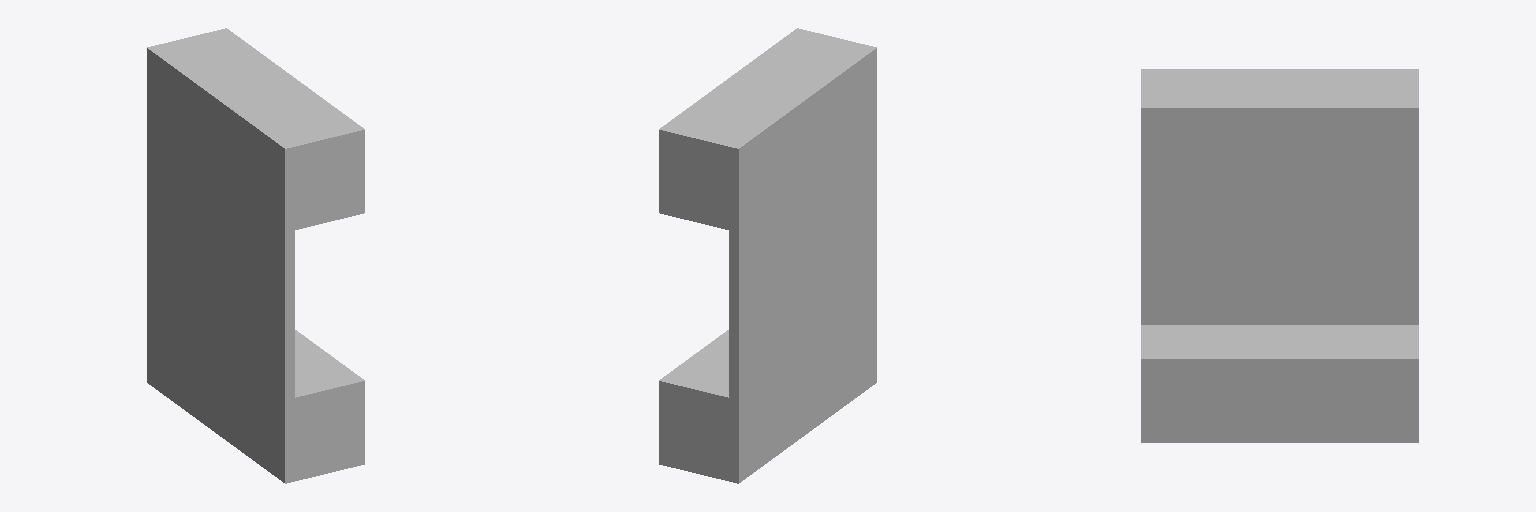
File: scroll.obj
3 renders of one model, left to right at view 1: azimuth 30°, elevation 25°; view 2: azimuth 150°, elevation 25°; view 3: azimuth 270°, elevation 25°, orthographic.
Visible parts, largest first — view 1: Cube_Cube.001; view 2: Cube_Cube.001; view 3: Cube_Cube.001.
Part boxes in pixels (bbox=[...]): Cube_Cube.001: bbox=[147, 28, 364, 483]; Cube_Cube.001: bbox=[659, 28, 876, 483]; Cube_Cube.001: bbox=[1141, 69, 1418, 442].
Bounding box in the file's own units: 0.5 × 2 × 1.5.